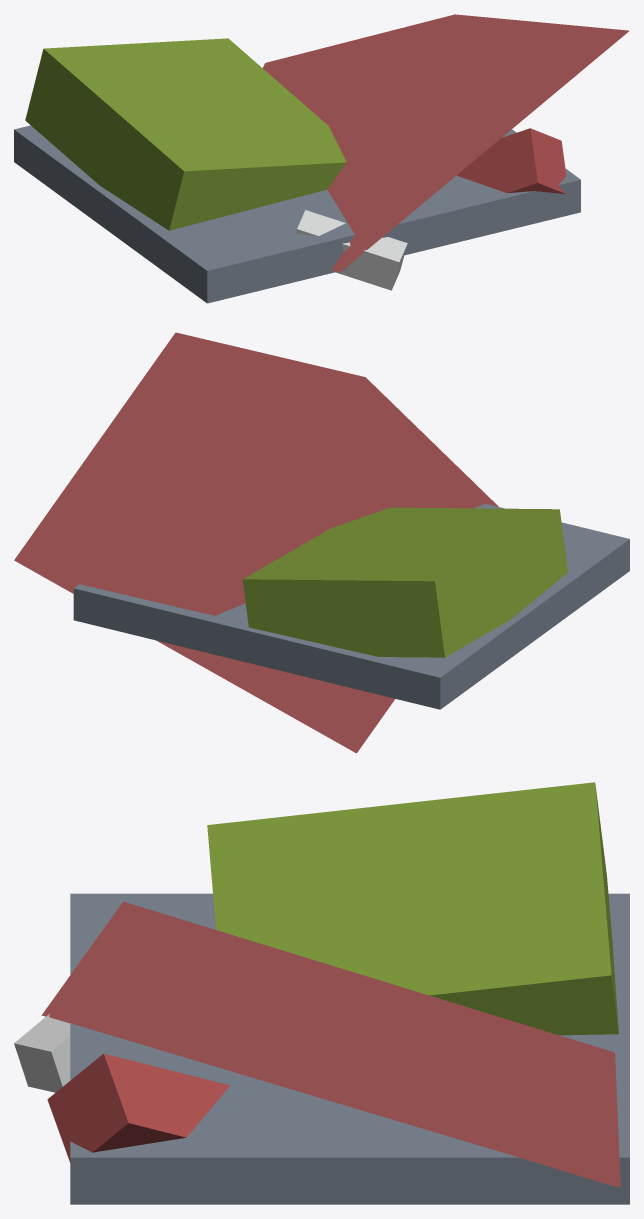
The model's file is craftsman-house-wreck.glb.
3 renders of one model, top to bottom at view 1: azimuth 30°, elevation 25°; view 2: azimuth 150°, elevation 25°; view 3: azimuth 270°, elevation 25°, orthographic. The views are drawn at different scales.
Parts seen in each view (by area): view 1: Root; view 2: Root; view 3: Root.
Boxes of the visible parts, x1,y1,x2,y2 form: Root: (14, 14, 629, 303); Root: (14, 332, 629, 753); Root: (14, 782, 629, 1204).
Size of the model in its own units: 11.38 by 6.09 by 9.47.
